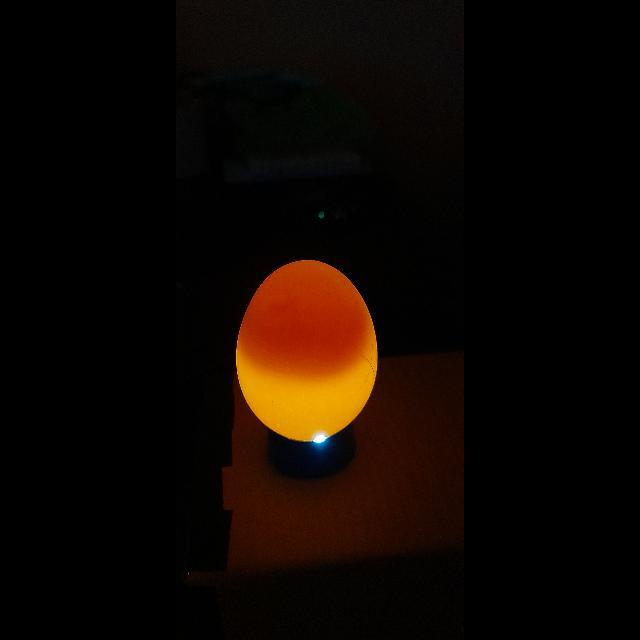Fertile: (230, 255, 380, 443)
